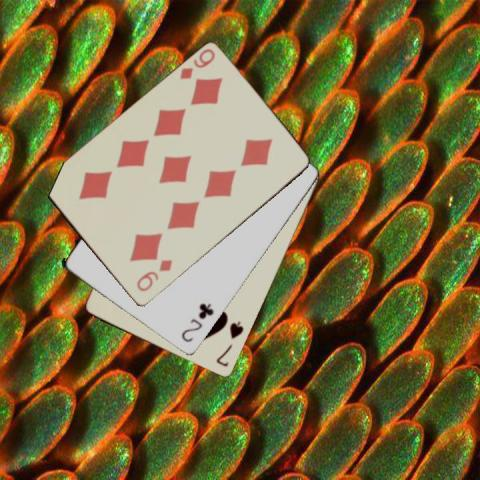2c: (178, 300, 215, 345)
7s: (214, 318, 246, 368)
9d: (133, 257, 175, 293), (176, 46, 216, 81)
